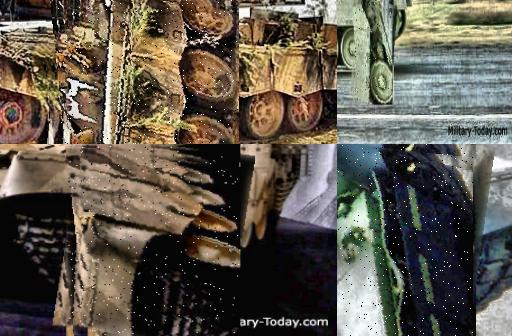tanks: (70, 147, 241, 336), (338, 145, 474, 336), (61, 1, 240, 145), (355, 2, 393, 106)
